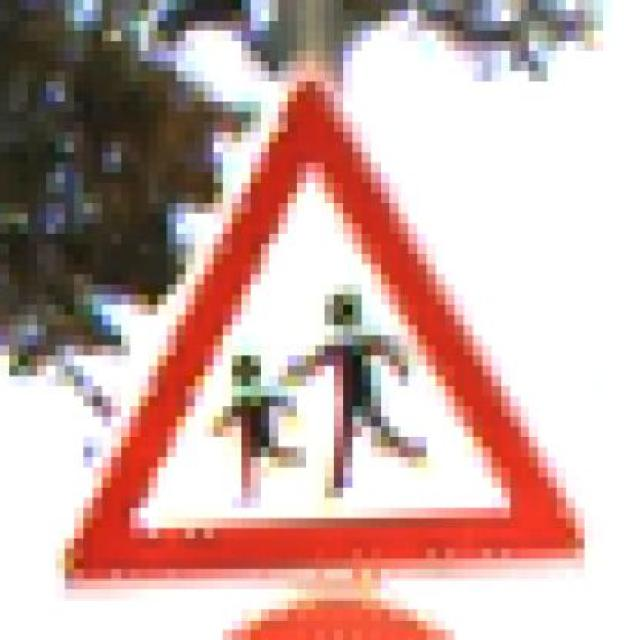Beware of children: (65, 71, 593, 600)
